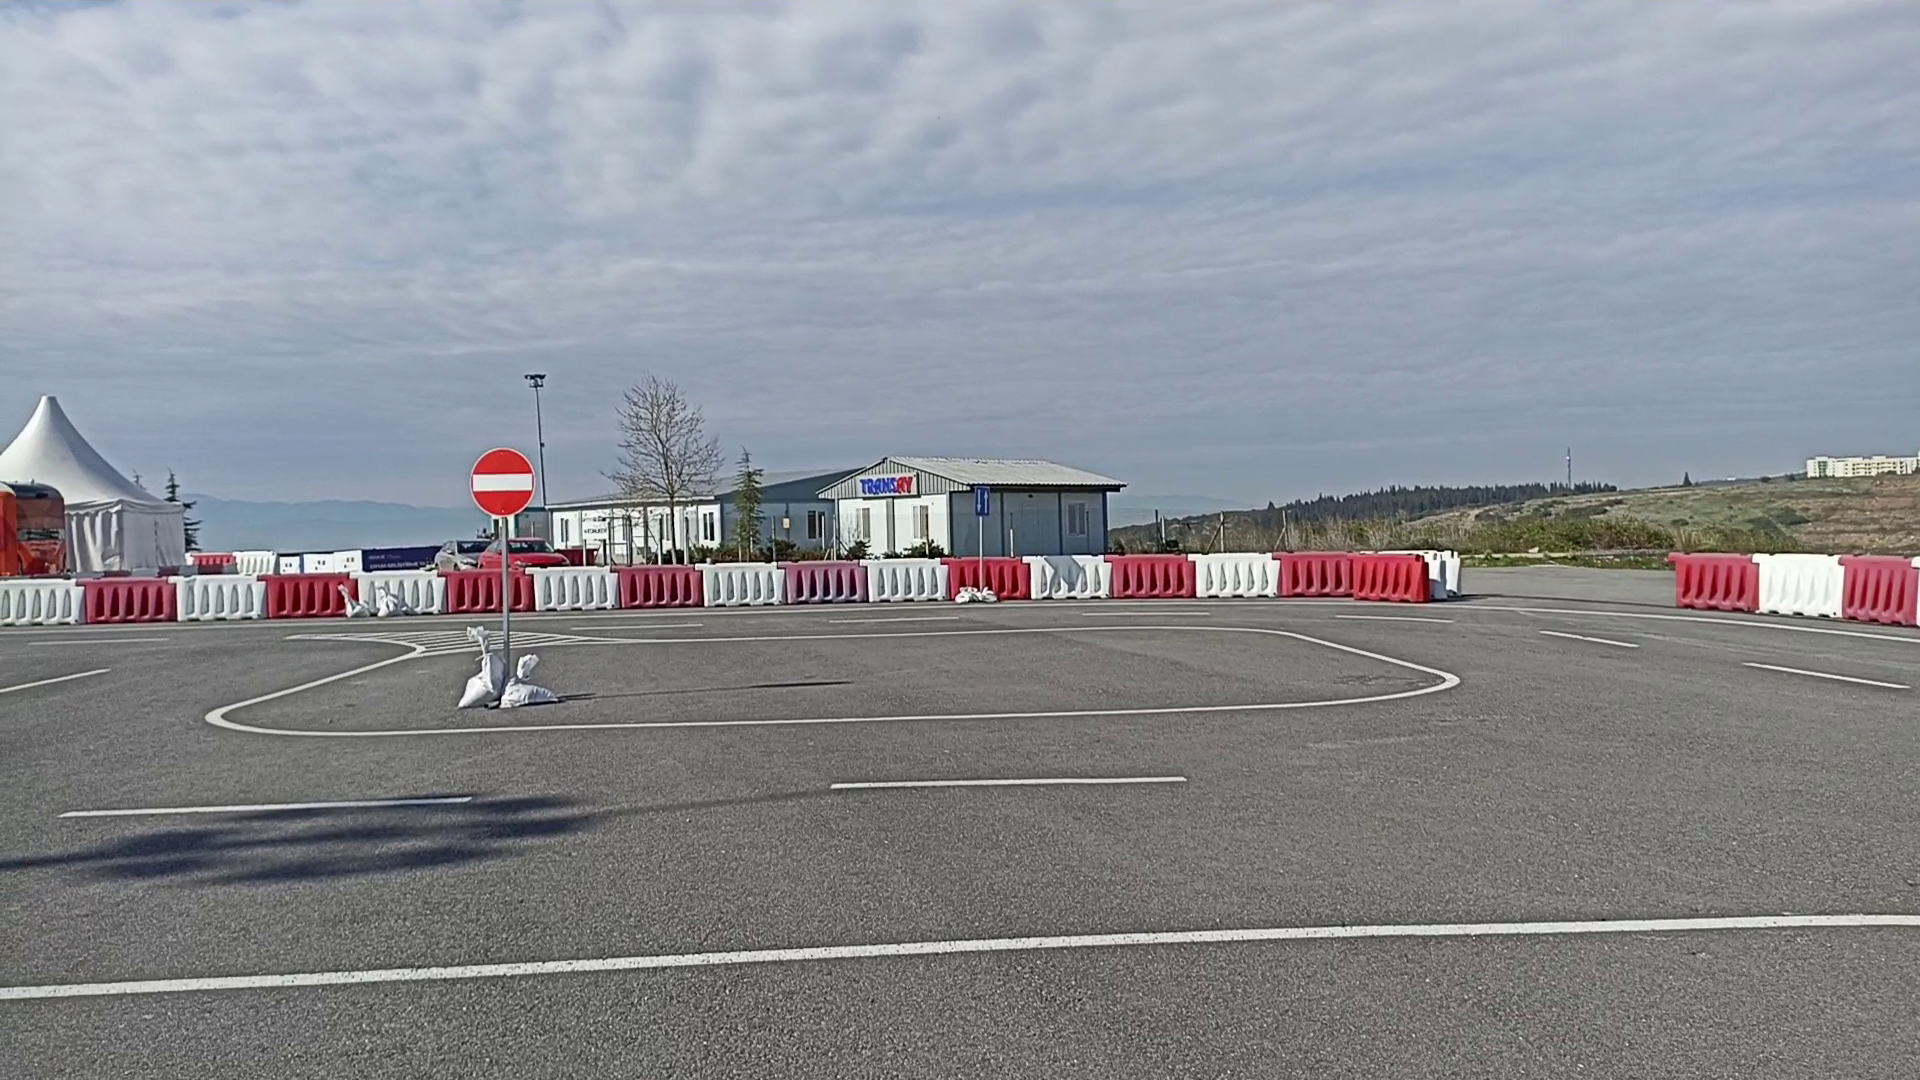noentryway: (469, 443, 537, 518)
